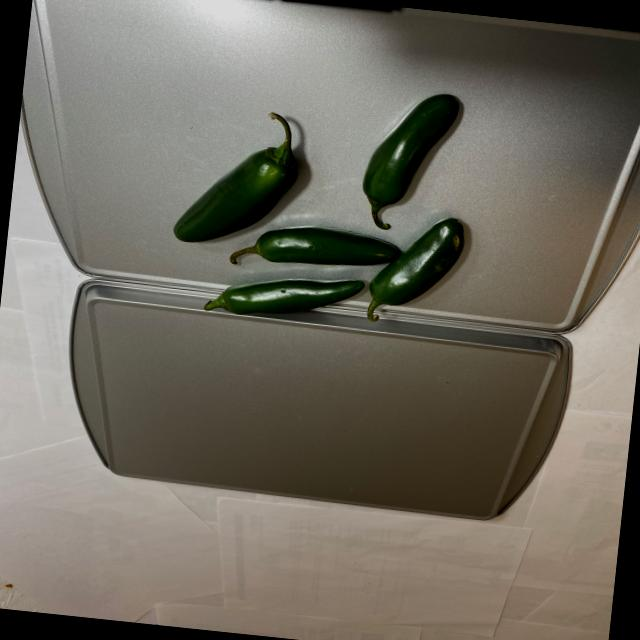chilli: (158, 61, 493, 350)
